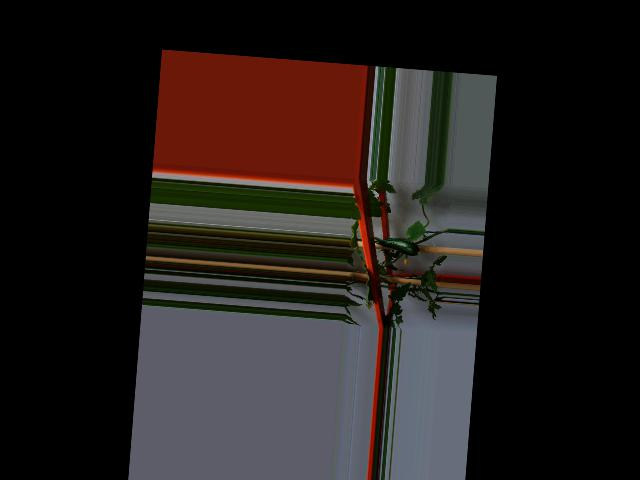cucumber: (380, 236, 423, 256)
